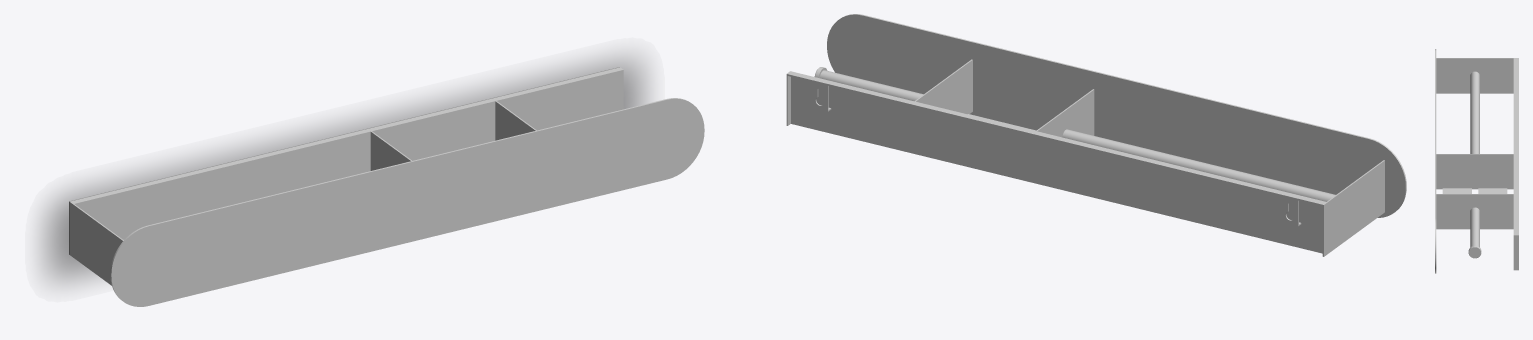
Rendered from round-trio.831f25462f.ar.glb.
The picture shows the model from 3 angles, left to right: view 1: azimuth 30°, elevation 25°; view 2: azimuth 150°, elevation 25°; view 3: azimuth 270°, elevation 25°; orthographic projection. The views are drawn at different scales.
Parts seen in each view (by area): view 1: NAUO1, object 2; view 2: NAUO1; view 3: NAUO1.
Boxes of the visible parts, x1=… form: NAUO1: x1=69, y1=67, x2=704, y2=306; object 2: x1=41, y1=56, x2=648, y2=283; NAUO1: x1=786, y1=14, x2=1406, y2=256; NAUO1: x1=1435, y1=49, x2=1518, y2=273.
Size of the model in its own units: 0.78 by 0.17 by 0.13.
Materials: 2 (1 with a texture image).
